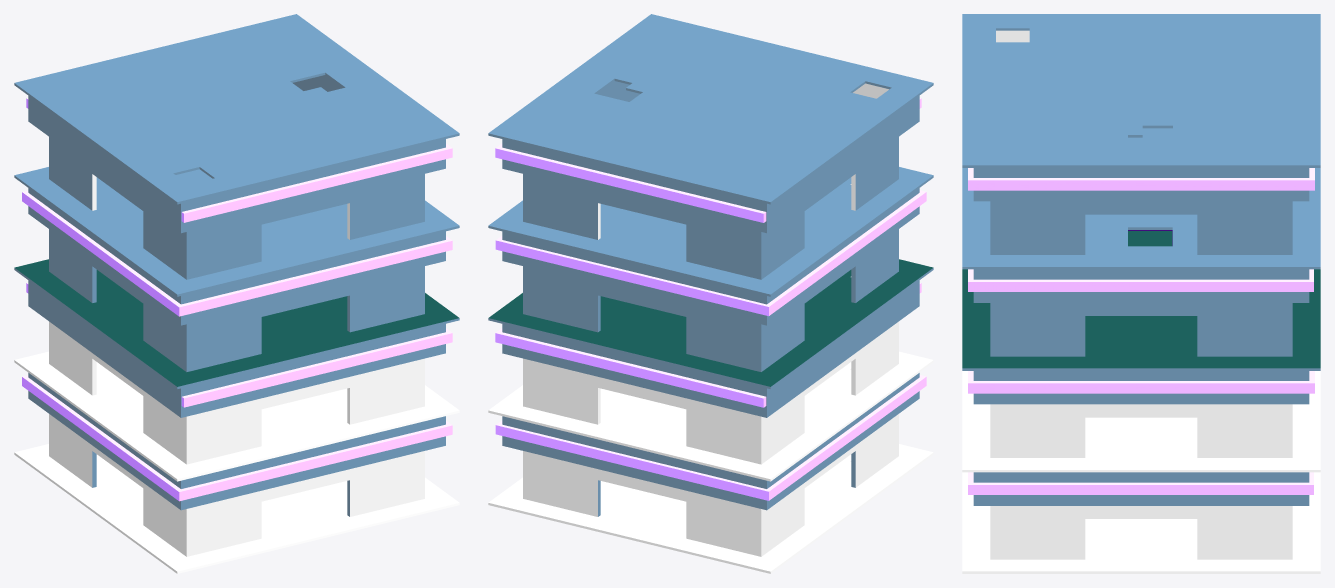
Rendered from NewStudzArtcadeBuilding_7.gltf.
3 views of the same model, side by side, from view 1: azimuth 30°, elevation 25°; view 2: azimuth 150°, elevation 25°; view 3: azimuth 270°, elevation 25° (orthographic). The views are drawn at different scales.
Visible parts, largest first — view 1: Wall Outline.035; view 2: Wall Outline.035; view 3: Wall Outline.035.
Part boxes in pixels (x1,y1,x2,y2): Wall Outline.035: [14, 14, 459, 573]; Wall Outline.035: [488, 14, 933, 573]; Wall Outline.035: [962, 14, 1320, 573].
Size of what is drawn, in the model's own units: 32 by 40.25 by 32.
